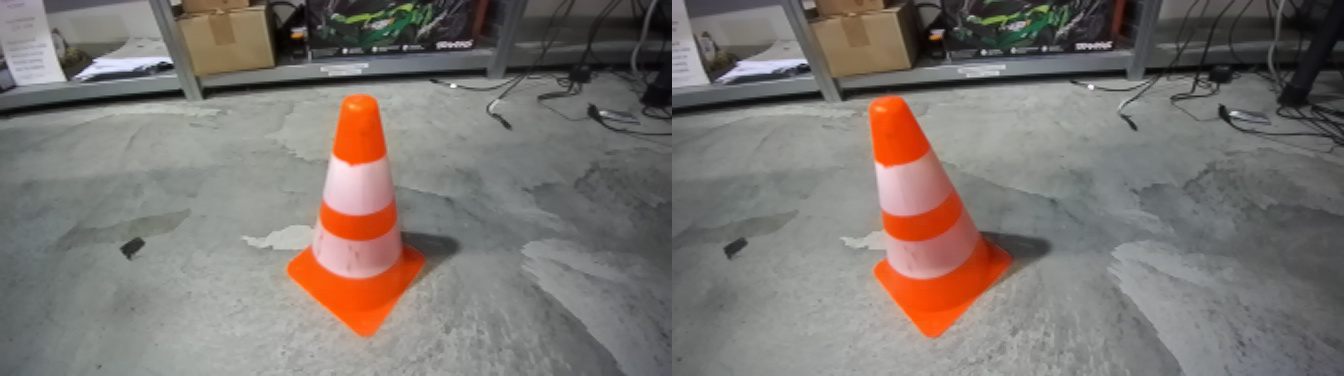cone: (276, 97, 432, 344), (867, 101, 1017, 342)
